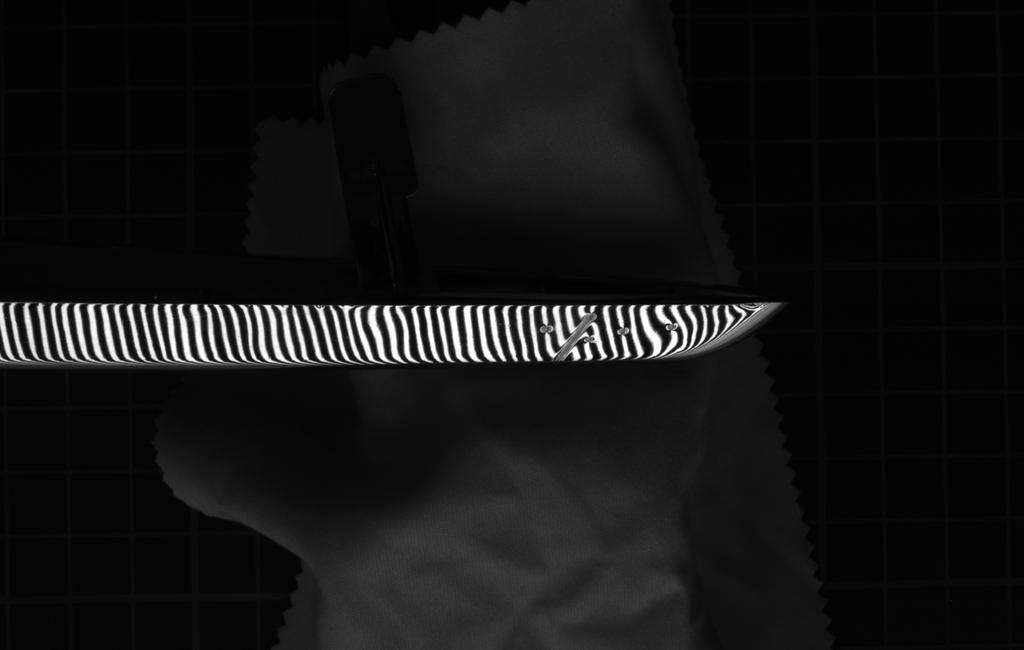Pierced: (612, 322, 634, 344), (661, 319, 683, 336), (533, 321, 556, 337), (583, 331, 596, 347)
Scratch: (553, 309, 601, 362)
